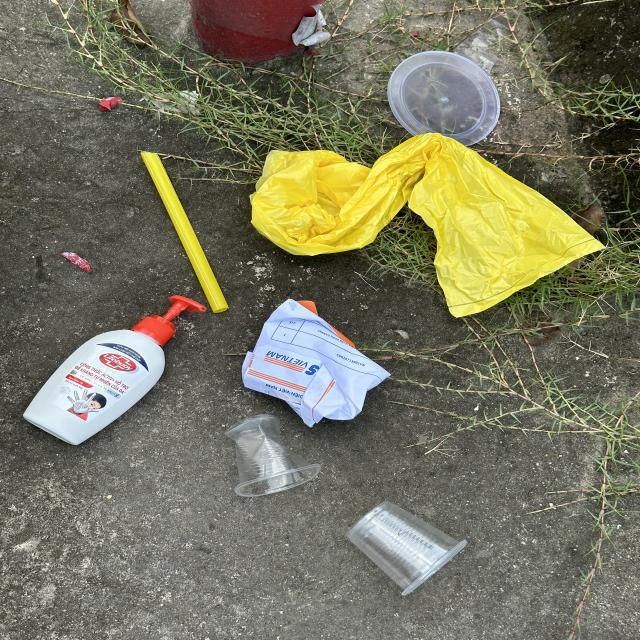bag: (250, 132, 606, 318)
bottle: (21, 294, 208, 446)
drinking straw: (139, 151, 231, 314)
lid: (387, 51, 502, 147)
paper: (243, 298, 392, 428)
plastic glass: (346, 499, 470, 598), (225, 414, 321, 496)
